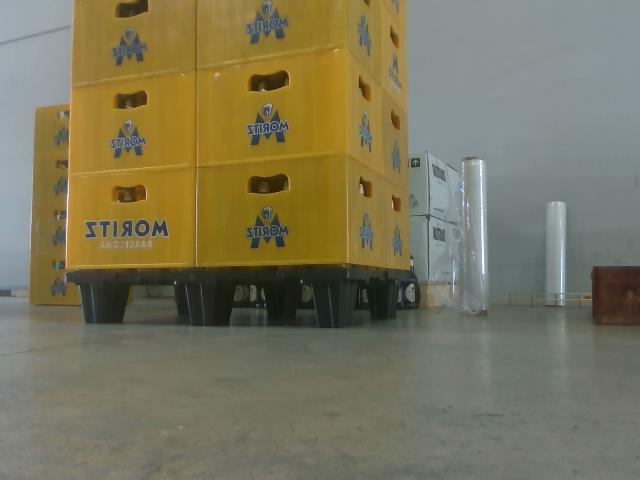block: (68, 269, 136, 323), (306, 267, 364, 328), (169, 270, 232, 326)
front: (68, 269, 348, 332)
hole pallet: (227, 282, 321, 329), (115, 281, 185, 324)
